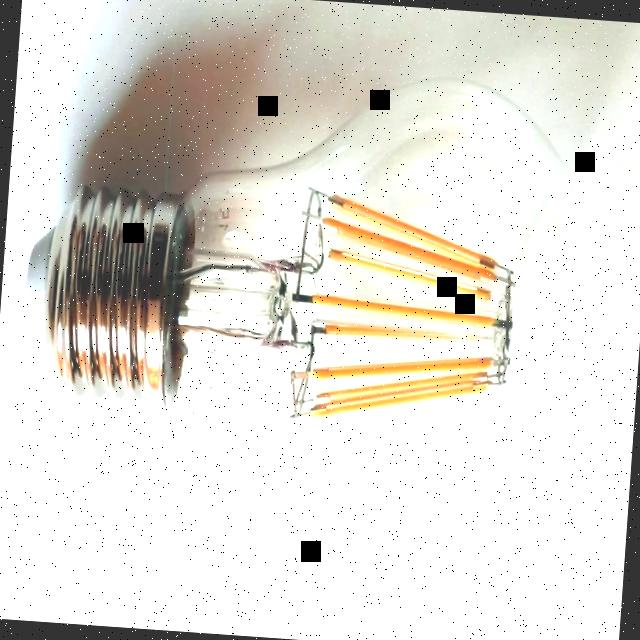light_bulb: (0, 23, 632, 596)
